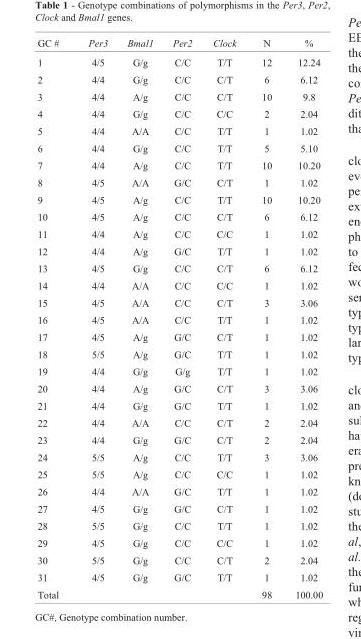table: (36, 37, 322, 599)
table column: (201, 37, 248, 599), (116, 37, 162, 599), (72, 37, 116, 599), (282, 37, 322, 599), (162, 37, 201, 599), (36, 37, 72, 599), (248, 37, 282, 599)
table column header: (36, 37, 322, 52)
table row: (36, 52, 322, 70), (36, 87, 322, 105), (36, 190, 322, 208), (36, 293, 322, 311), (36, 396, 322, 414), (36, 499, 322, 517), (36, 70, 322, 87), (36, 105, 322, 122), (36, 122, 322, 139), (36, 139, 322, 156), (36, 156, 322, 173), (36, 173, 322, 190), (36, 208, 322, 225), (36, 225, 322, 242), (36, 242, 322, 259), (36, 259, 322, 276), (36, 276, 322, 293), (36, 311, 322, 328), (36, 328, 322, 345), (36, 345, 322, 362), (36, 362, 322, 379), (36, 379, 322, 396), (36, 414, 322, 431), (36, 431, 322, 448), (36, 448, 322, 465), (36, 465, 322, 482), (36, 482, 322, 499), (36, 517, 322, 534), (36, 534, 322, 551), (36, 551, 322, 568), (36, 568, 322, 585), (36, 37, 322, 52), (36, 585, 322, 599)
